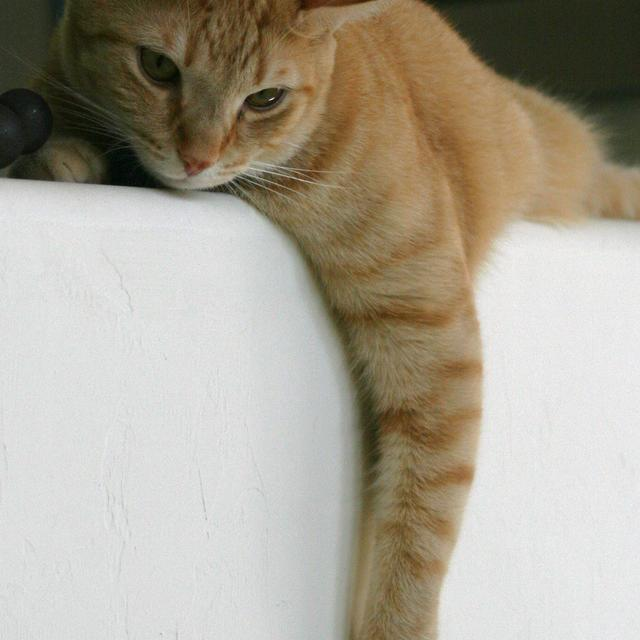animals: (95, 0, 404, 173)
